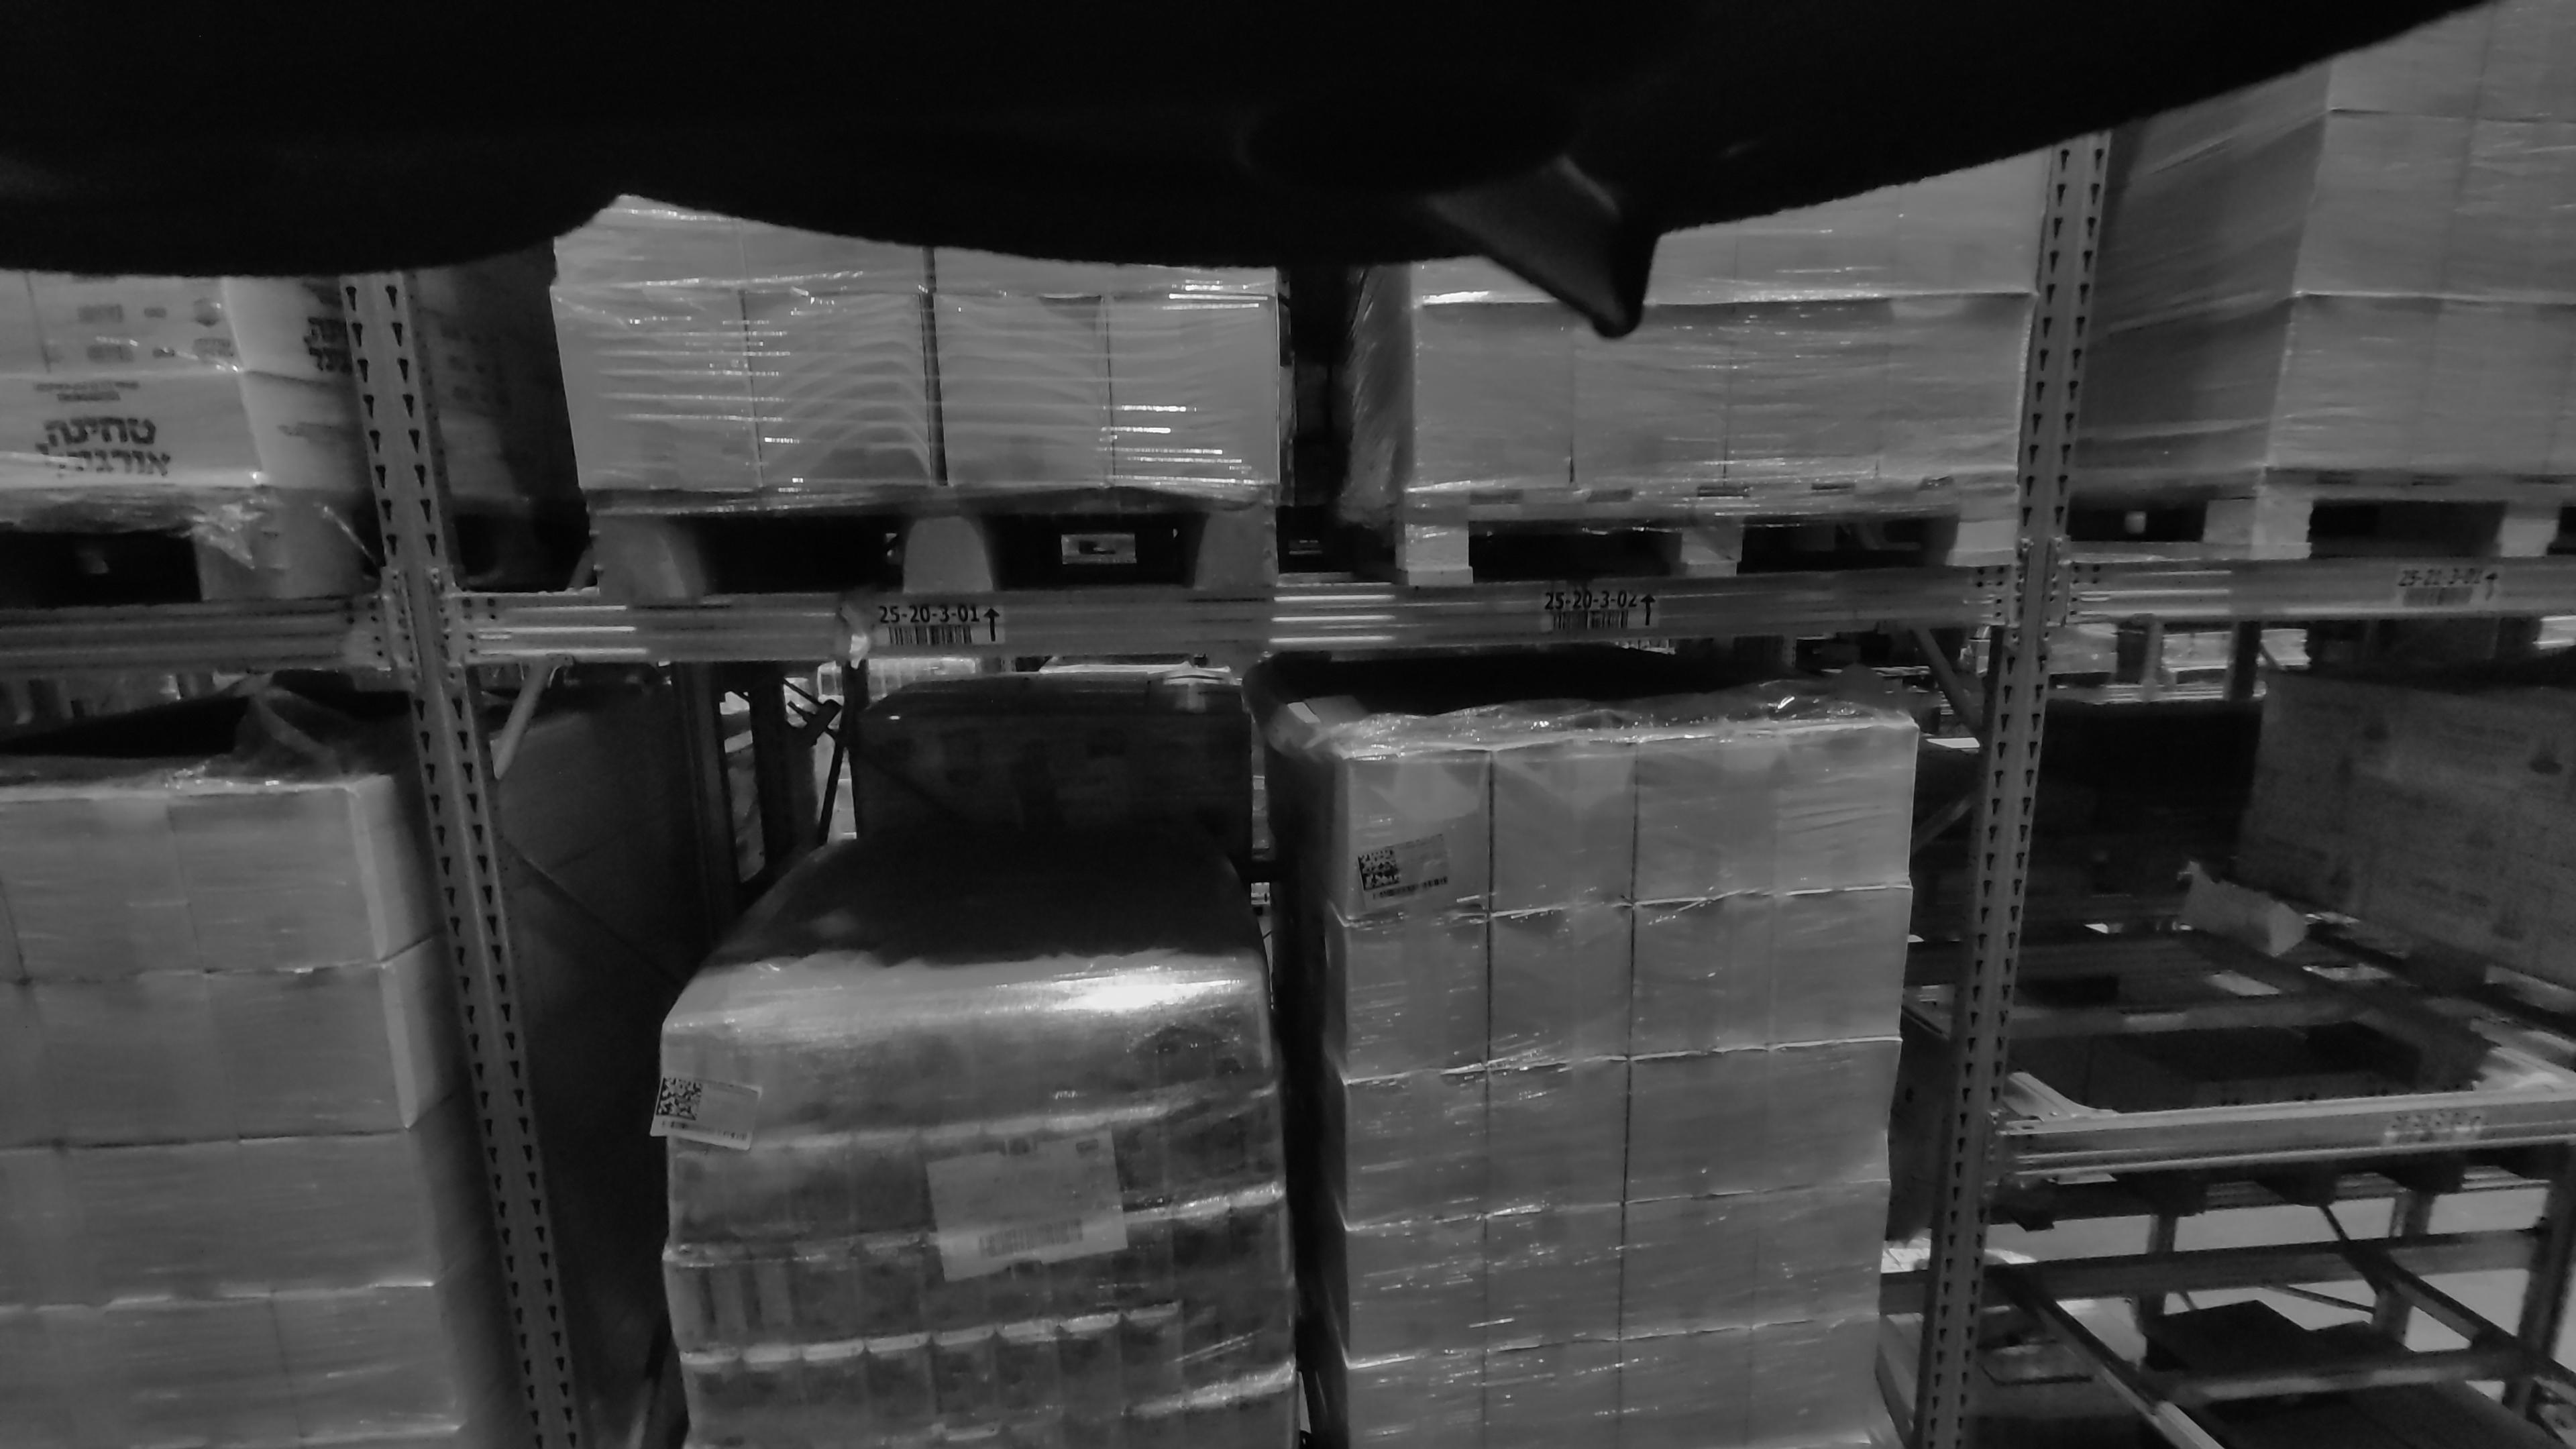empty-shelf: (2028, 619, 2576, 1099)
